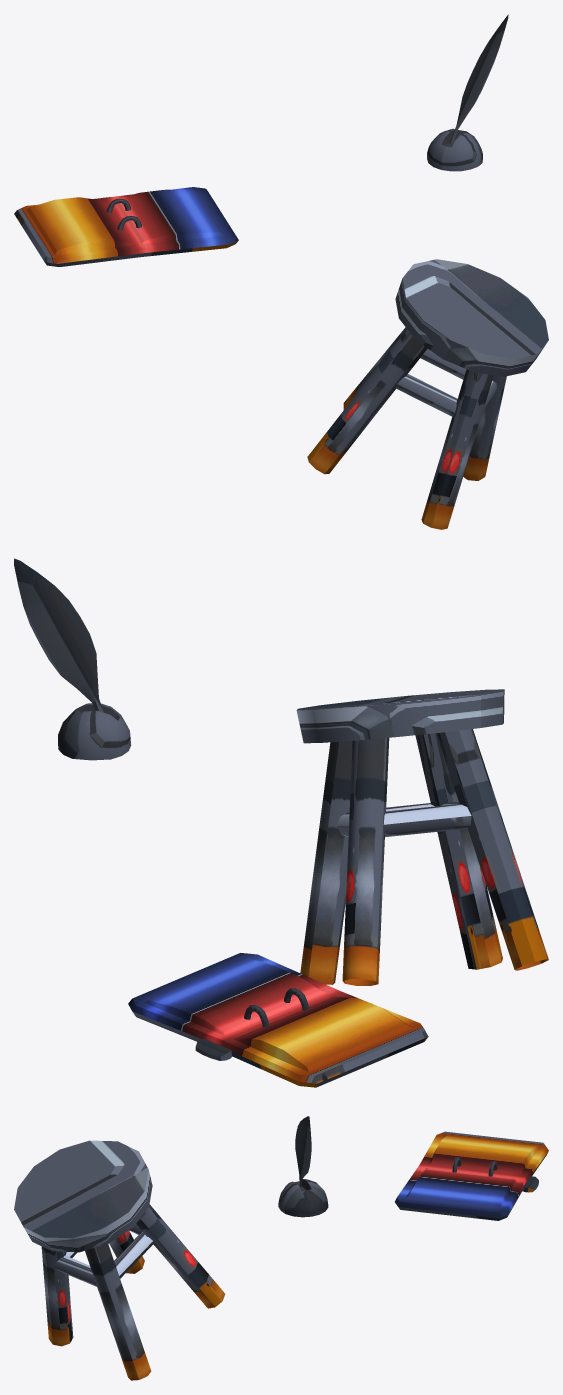
Rendered from reception_stuff.FBX.
3 renders of one model, top to bottom at view 1: azimuth 30°, elevation 25°; view 2: azimuth 150°, elevation 25°; view 3: azimuth 270°, elevation 25°, orthographic. The views are drawn at different scales.
Parts seen in each view (by area): view 1: Mesh_0018; view 2: Mesh_0018; view 3: Mesh_0018.
Part boxes in pixels (x1=…): Mesh_0018: x1=14, y1=14, x2=548, y2=529; Mesh_0018: x1=14, y1=558, x2=548, y2=1087; Mesh_0018: x1=14, y1=1116, x2=548, y2=1380.
Size of the model in its own units: 447 by 396 by 603.
